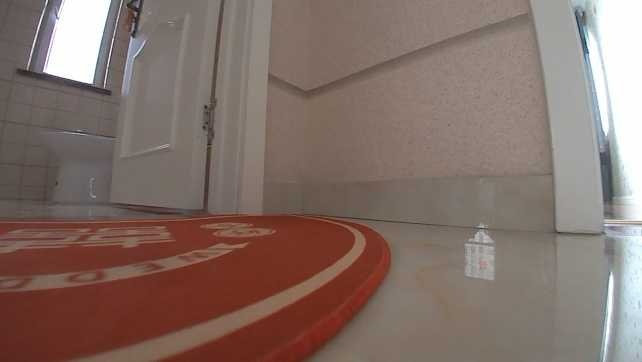blanket: (0, 210, 392, 361)
door_anno: (108, 0, 273, 215)
toilet: (37, 128, 114, 205)
